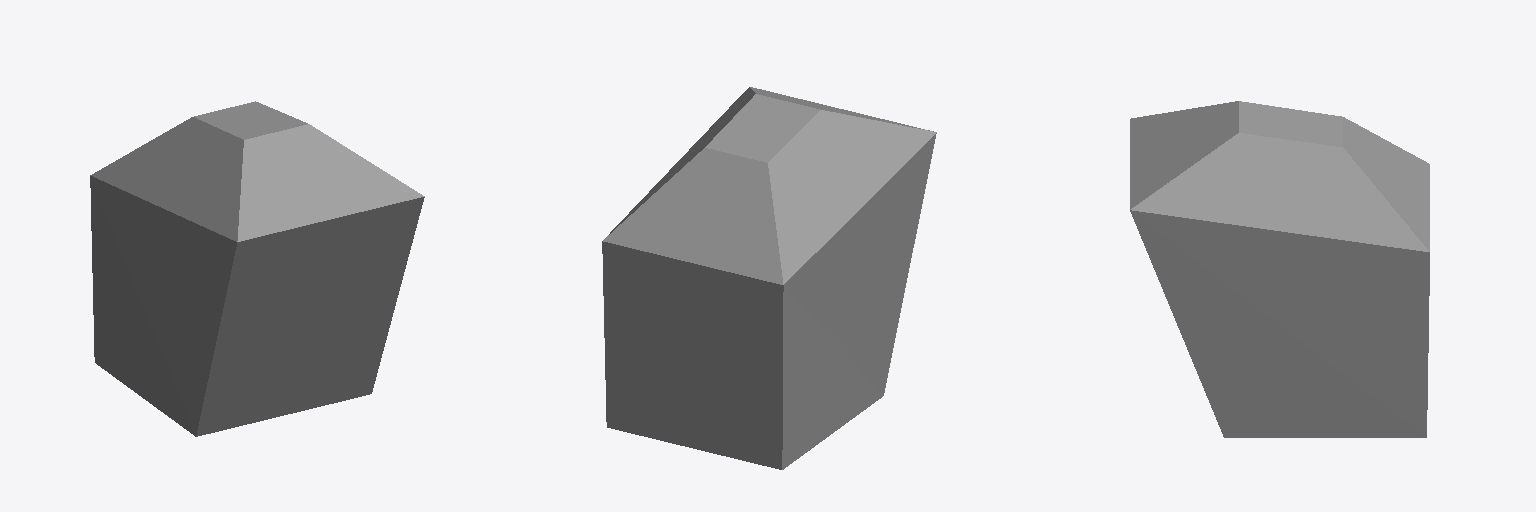
The model's file is lamp.obj.
The picture shows the model from 3 angles: view 1: azimuth 30°, elevation 25°; view 2: azimuth 150°, elevation 25°; view 3: azimuth 270°, elevation 25°; orthographic projection.
Parts seen in each view (by area): view 1: Cube; view 2: Cube; view 3: Cube.
Part boxes in pixels (x1,y1,x2,y2): Cube: (90, 101, 424, 436); Cube: (602, 87, 936, 469); Cube: (1130, 101, 1429, 437).
Size of the model in its own units: 2.13 by 3.03 by 2.96.